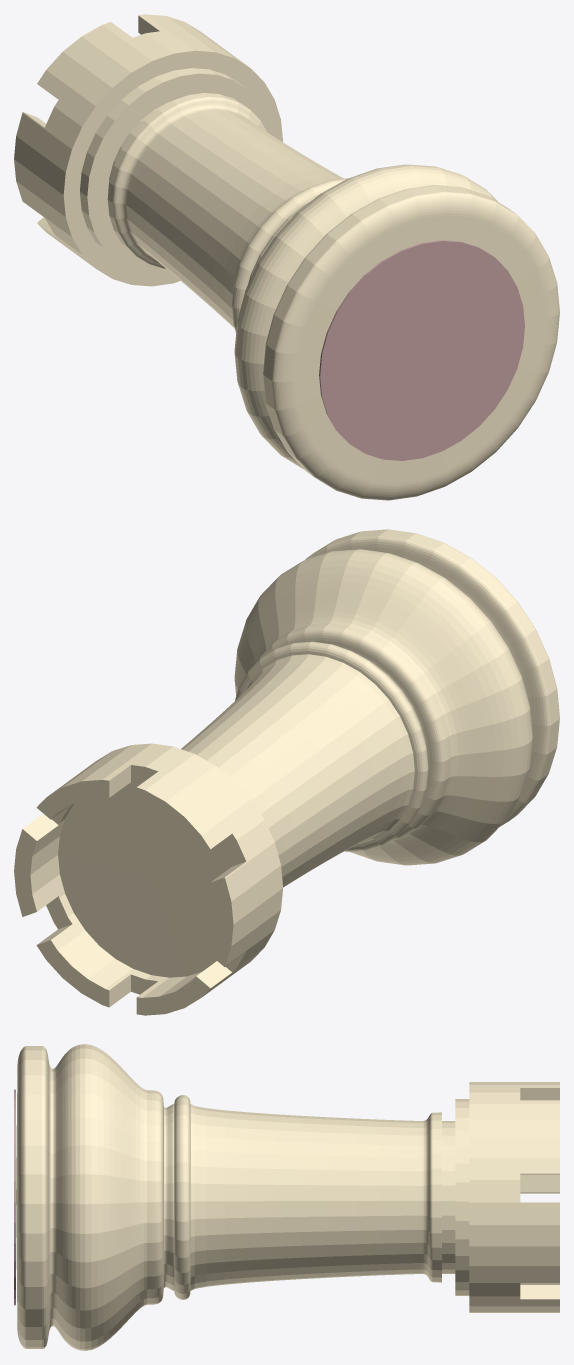
Rendered from rook.glb.
The picture shows the model from 3 angles, top to bottom: view 1: azimuth 30°, elevation 25°; view 2: azimuth 150°, elevation 25°; view 3: azimuth 270°, elevation 25°; orthographic projection. The views are drawn at different scales.
Parts seen in each view (by area): view 1: Rook_Plastic_0, Rook_Velvet_0; view 2: Rook_Plastic_0; view 3: Rook_Plastic_0, Rook_Velvet_0.
Part boxes in pixels (x1,y1,x2,y2): Rook_Plastic_0: [14, 14, 559, 500]; Rook_Velvet_0: [319, 240, 524, 460]; Rook_Plastic_0: [14, 529, 559, 1015]; Rook_Plastic_0: [16, 1044, 559, 1350]; Rook_Velvet_0: [14, 1089, 15, 1305].
Size of the model in its own units: 0.0277 by 0.0277 by 0.0492.
